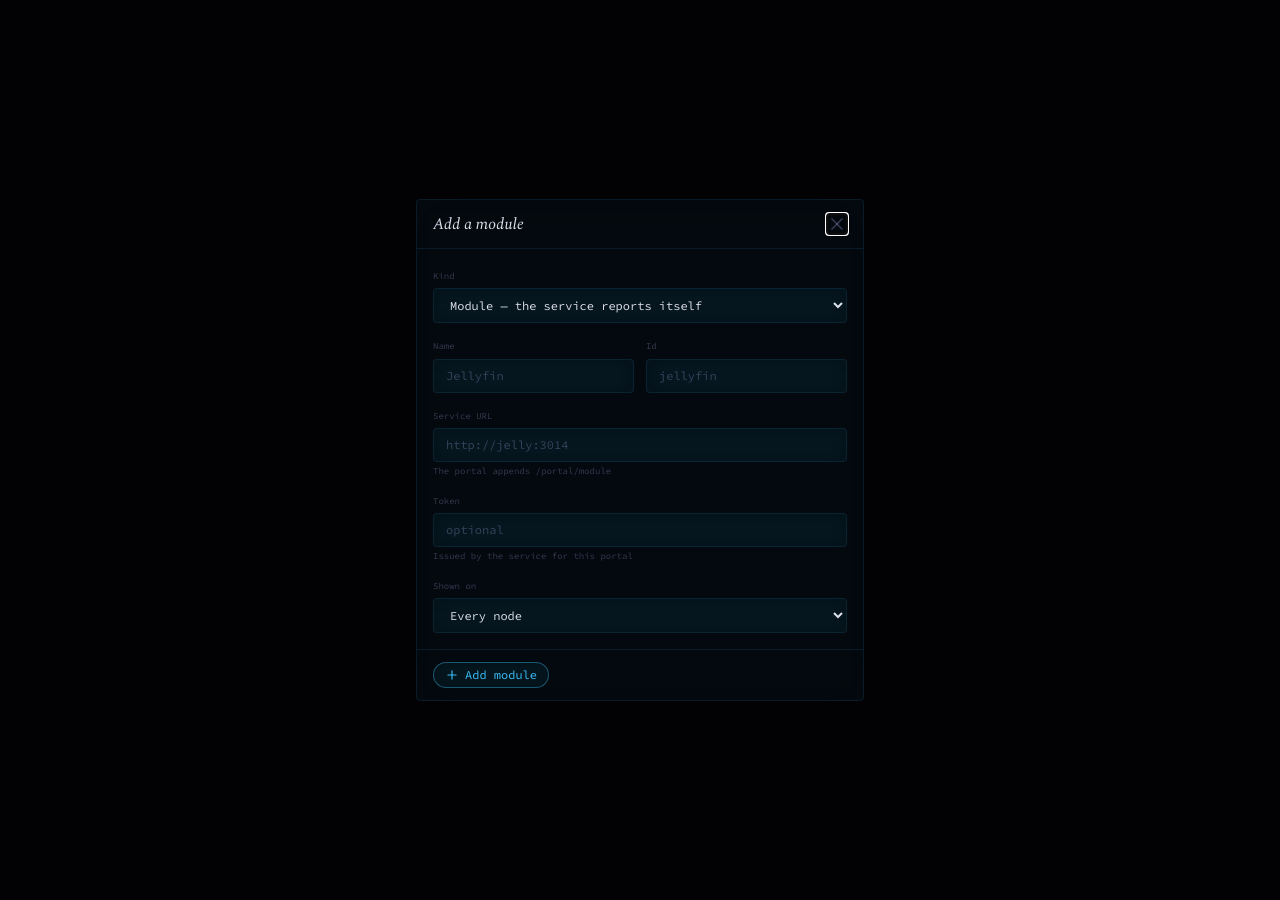
Test: adding › derives the id from the name
The width and height of the screenshot is (1280, 900).
Type "Missed an Ep" into the field with placeholder "Jellyfin" at (534, 376), box [433,359,634,393]
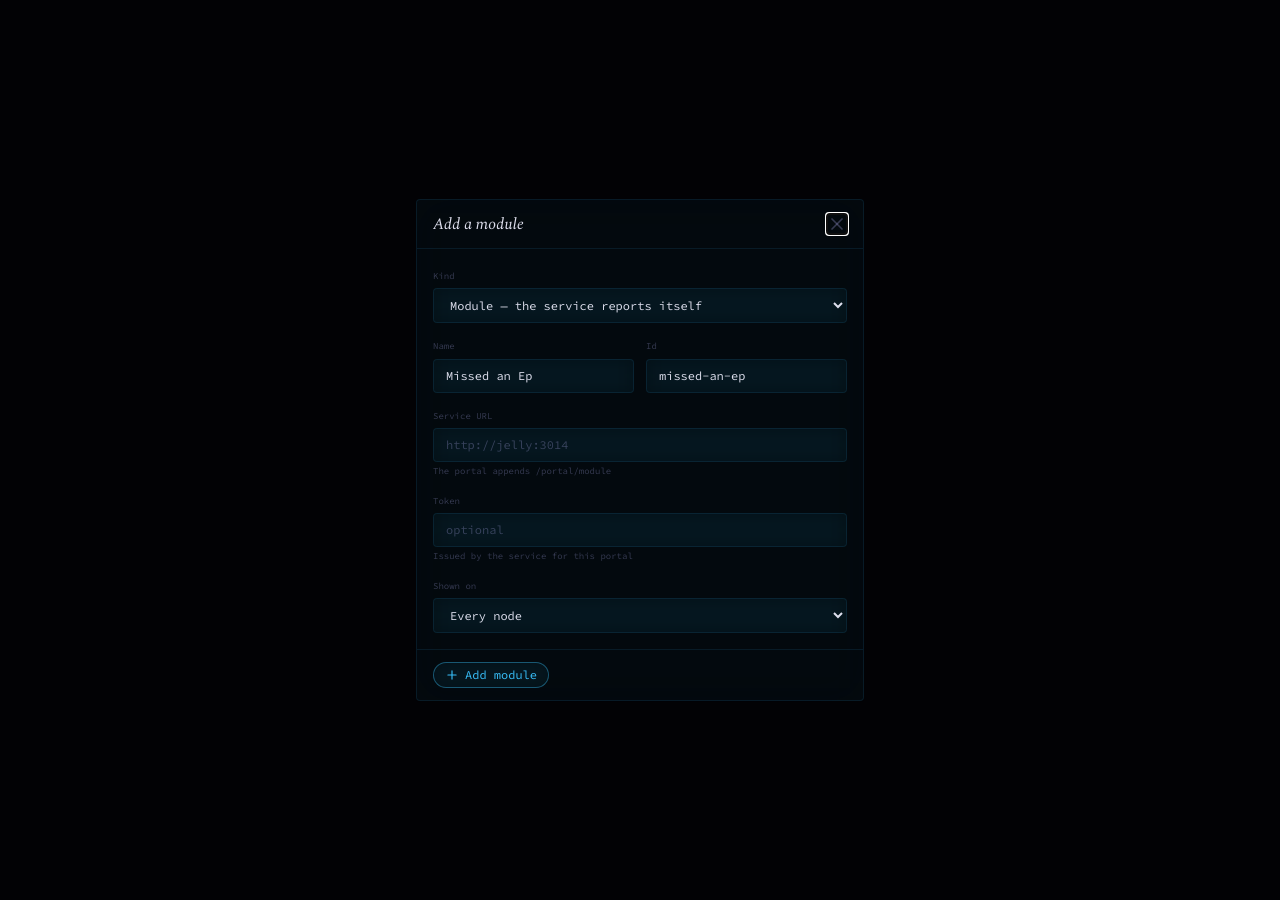
Expected: the field with placeholder "jellyfin" holds "missed-an-ep", [646,359,847,393]
